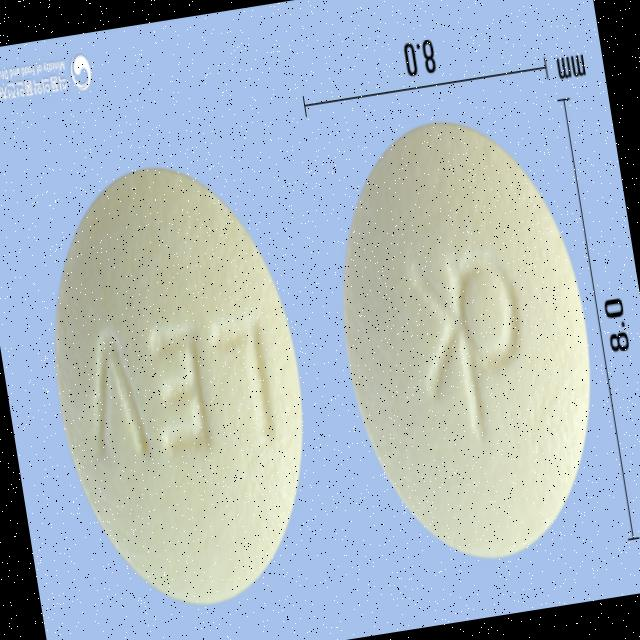Levoracin: (24, 153, 332, 628), (314, 101, 618, 576)
